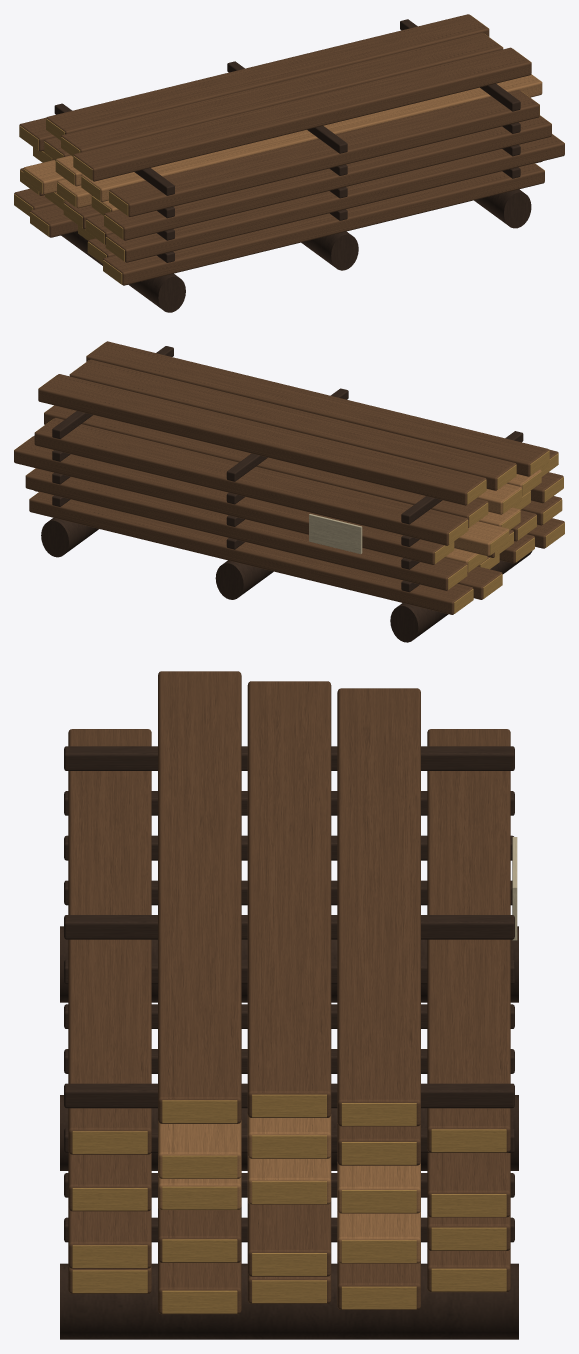
Rendered from lumber_pile.glb.
The picture shows the model from 3 angles, top to bottom: view 1: azimuth 30°, elevation 25°; view 2: azimuth 150°, elevation 25°; view 3: azimuth 270°, elevation 25°; orthographic projection. The views are drawn at different scales.
Visible parts, largest first — view 1: lumber_pile; view 2: lumber_pile; view 3: lumber_pile.
Boxes of the visible parts, box(x1,y1,x2,y2) form: lumber_pile: box(14, 14, 564, 312); lumber_pile: box(14, 341, 564, 642); lumber_pile: box(60, 671, 518, 1339).
Size of the model in its own units: 2.8 by 0.8 by 1.2.
1 material, 1 textured.
